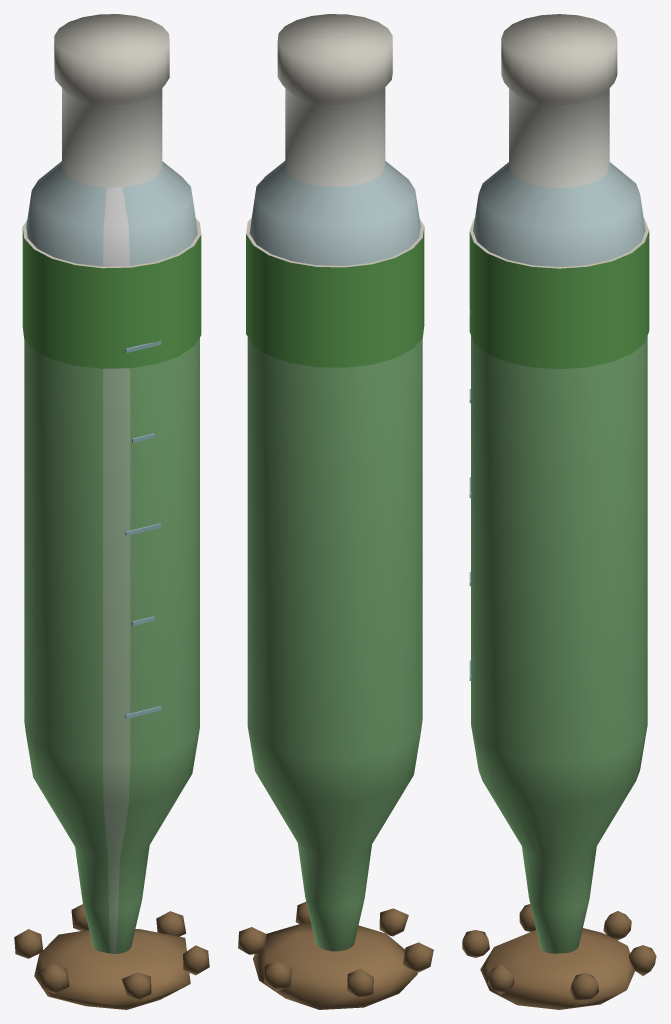
File: ampoule_tower.glb
The picture shows the model from 3 angles, left to right: view 1: azimuth 30°, elevation 25°; view 2: azimuth 150°, elevation 25°; view 3: azimuth 270°, elevation 25°; orthographic projection.
Visible parts, largest first — view 1: body; view 2: body; view 3: body.
Boxes of the visible parts, x1,y1,x2,y2 form: body: (14,14,209,1009); body: (238,14,433,1009); body: (462,14,656,1009).
Bounding box in the file's own units: 3.82 × 20.93 × 3.85.
